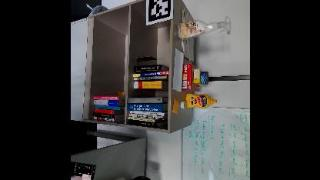book-spine: (127, 103, 161, 112), (127, 120, 157, 128), (132, 71, 168, 77), (128, 114, 163, 120), (127, 97, 162, 103), (133, 81, 161, 88), (133, 65, 162, 71), (93, 100, 117, 107), (130, 111, 163, 116), (93, 116, 116, 122), (127, 117, 154, 122), (133, 76, 166, 80), (92, 113, 114, 119), (93, 96, 118, 101), (94, 106, 120, 110), (94, 109, 114, 114)
